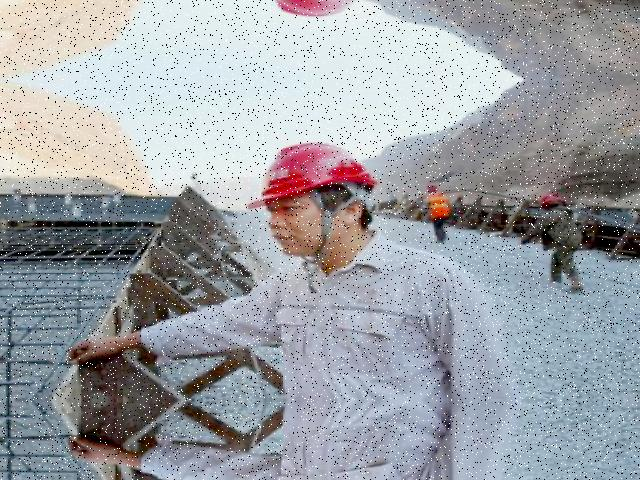Helmet: (238, 138, 378, 214)
